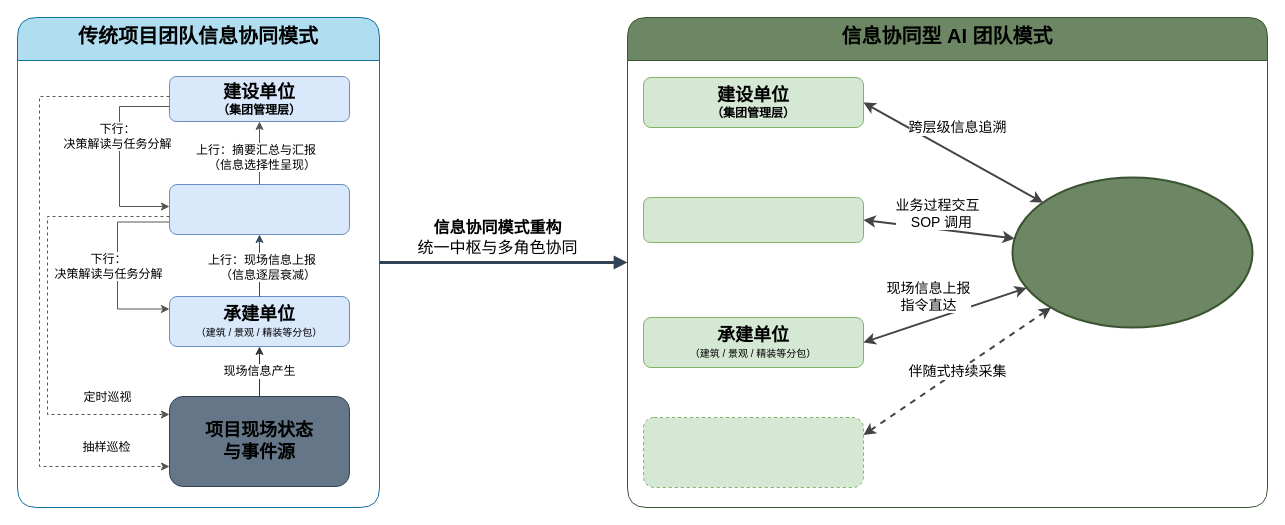
This 1285x525 diagram has some shape labels left out. Each missing label, with the centre of its shape:
"Emily 基于 AI的 团队公共 信息协同中枢" belongs at [1132,252].
"一线现场与过程信息 （自然语言交互 / 过程性记录）" belongs at [753,452].
"项目部 （工程 / 成本 / 设计条线）" belongs at [259,209].
"项目部 （工程 / 成本 / 设计）" belongs at [753,219].
